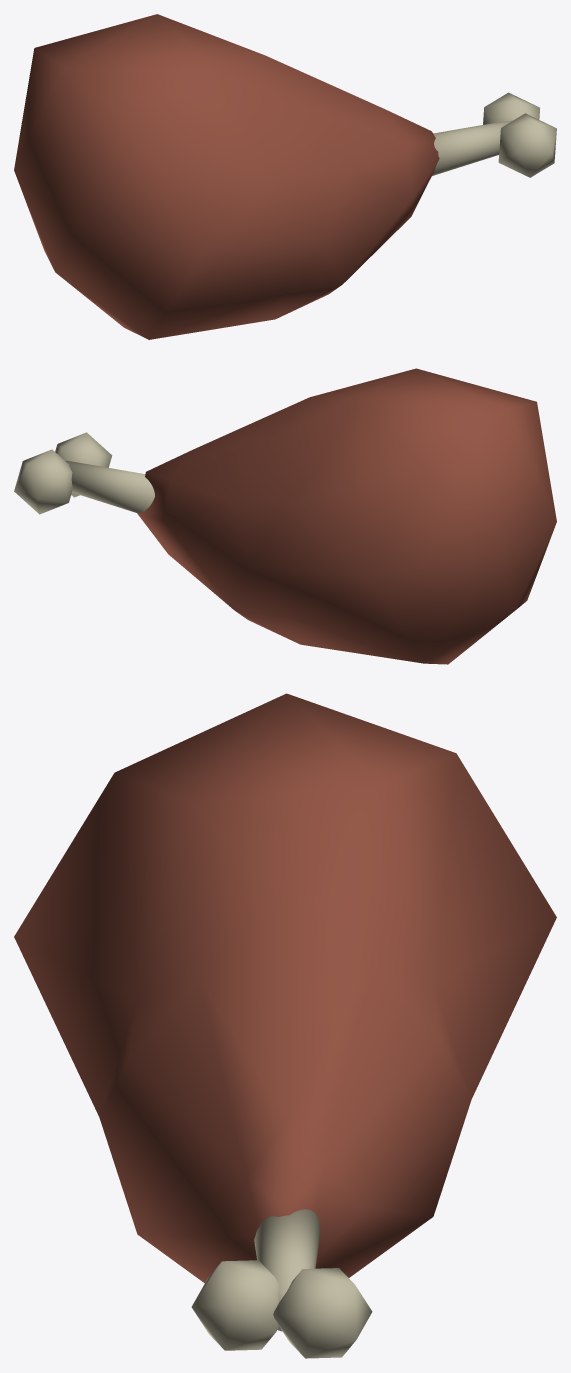
File: ChickenCoocked-Lowpoly.fbx
3 views of the same model, one above another, from view 1: azimuth 30°, elevation 25°; view 2: azimuth 150°, elevation 25°; view 3: azimuth 270°, elevation 25° (orthographic). The views are drawn at different scales.
Visible parts, largest first — view 1: ChickenCooked; view 2: ChickenCooked; view 3: ChickenCooked.
Part boxes in pixels (x1=…): ChickenCooked: x1=14, y1=14, x2=556, y2=339; ChickenCooked: x1=14, y1=368, x2=556, y2=664; ChickenCooked: x1=14, y1=693, x2=556, y2=1358.
Size of the model in its own units: 81.62 by 42.83 by 49.17.
